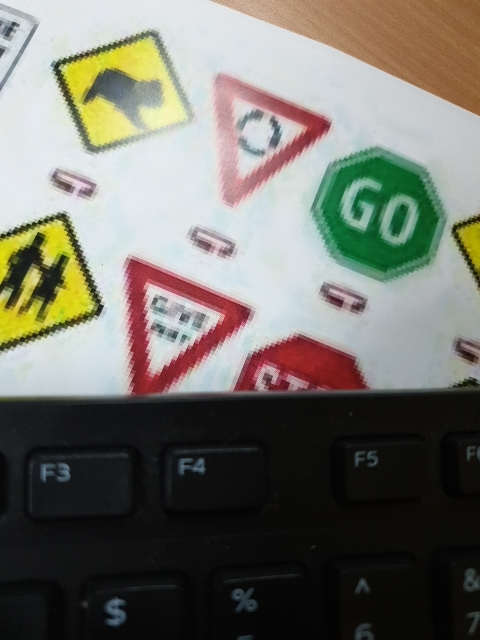giveway: (120, 252, 226, 396)
stop: (243, 325, 391, 438)
